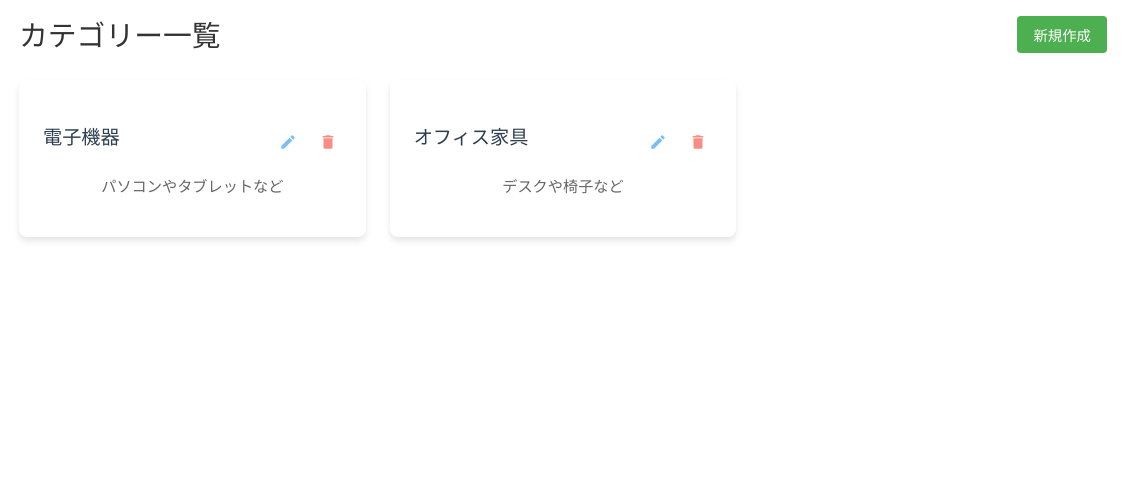
Scenario: CategoryList Component CRUD Tests › カテゴリーを削除できる
Check: the heading "電子機器" is shown, box [43,123,120,152]
// 削除ボタンを見つけて押す（最初のカテゴリーの削除ボタン）
Step 1. Click the button named "カテゴリーを削除" in the row of "電子機器" → (328, 142), box [314,128,342,156]
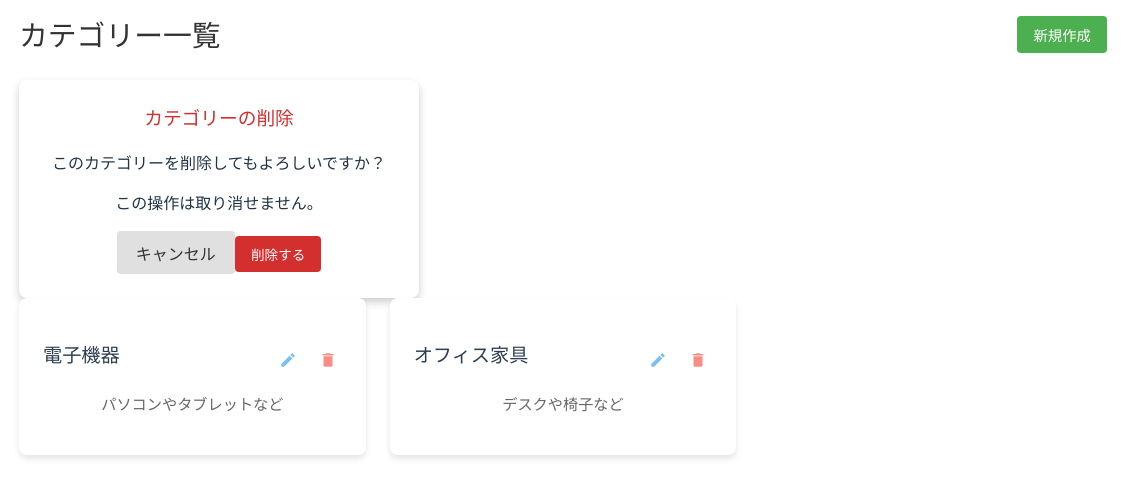
Check: the text "このカテゴリーを削除してもよろしいですか？" is shown, box [43,151,395,175]
Step 2. Click the button "削除する" → (278, 254), box [235,236,321,272]
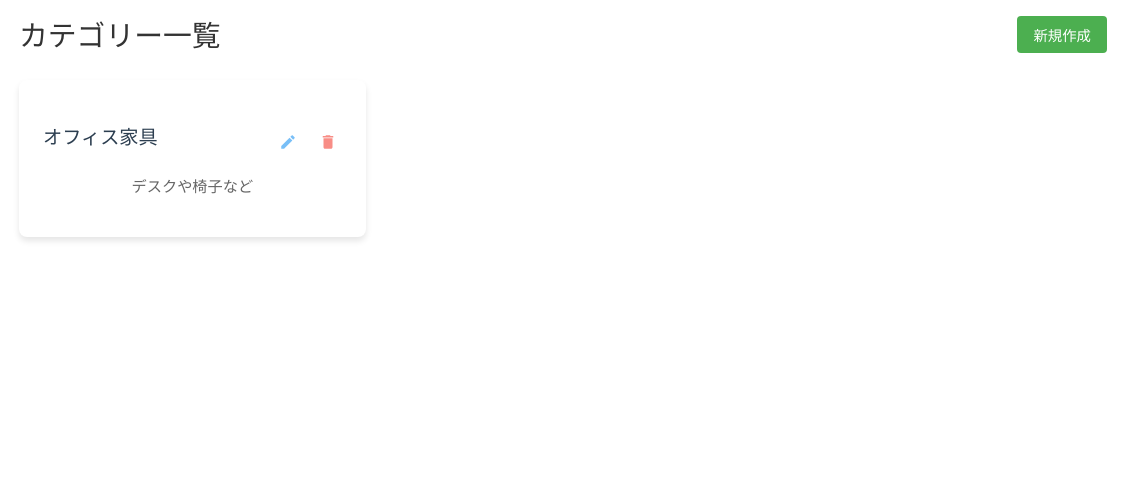
Check: the heading "オフィス家具" is shown, box [43,123,158,152]
Check: the heading "電子機器" is gone
Check: the text "パソコンやタブレットなど" is gone
